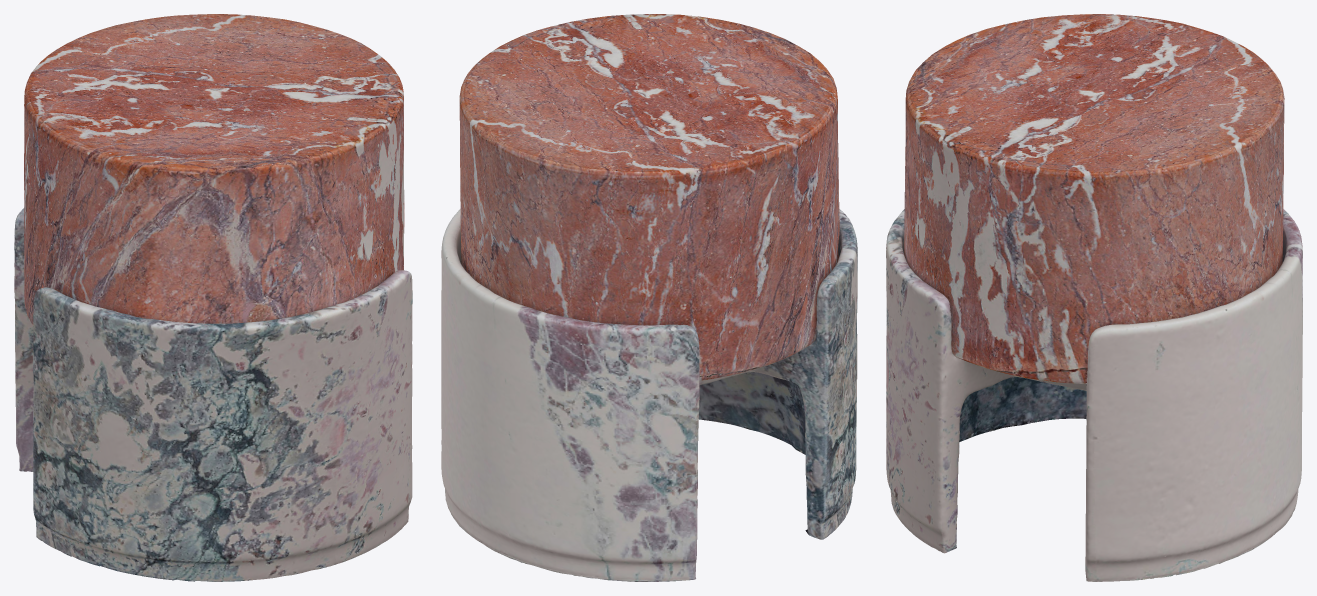
Rendered from KuengCaputo_TooHardToBeTrue_2014.glb.
The picture shows the model from 3 angles, left to right: view 1: azimuth 30°, elevation 25°; view 2: azimuth 150°, elevation 25°; view 3: azimuth 270°, elevation 25°; orthographic projection.
Visible parts, largest first — view 1: Retopo_komplett_bake.001; view 2: Retopo_komplett_bake.001; view 3: Retopo_komplett_bake.001.
Part boxes in pixels (<box>): Retopo_komplett_bake.001: <box>14,14,412,581</box>; Retopo_komplett_bake.001: <box>441,14,857,581</box>; Retopo_komplett_bake.001: <box>886,14,1302,581</box>.
Bounding box in the file's own units: 0.4554 × 0.4883 × 0.4556.
Materials: 1 (1 with a texture image).
